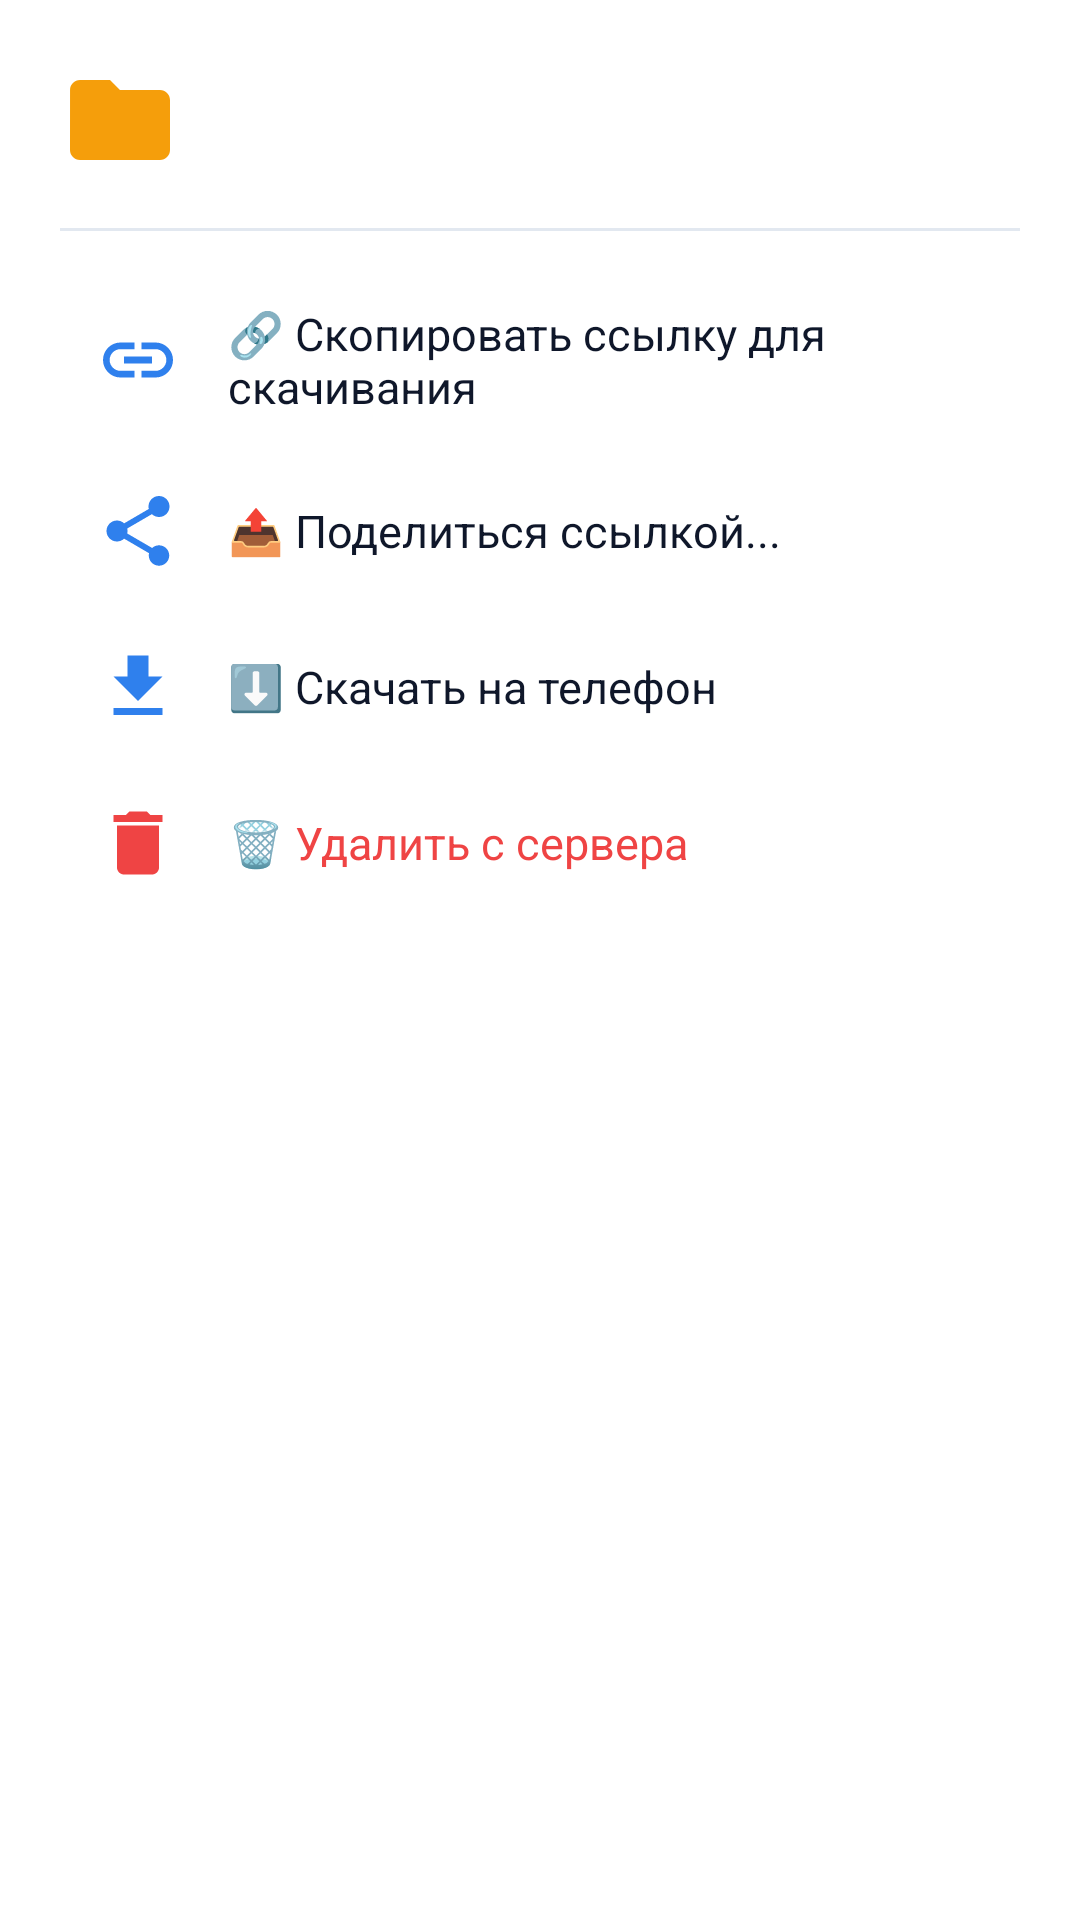

Named icons in this screenshot (1080px×1920px) and their bounding boxes, Rect(x1, y1, x2, y2):
delete: Rect(113, 811, 163, 875)
download: Rect(113, 655, 163, 715)
folder: Rect(70, 80, 170, 160)
link: Rect(103, 342, 173, 378)
share: Rect(106, 496, 170, 566)
